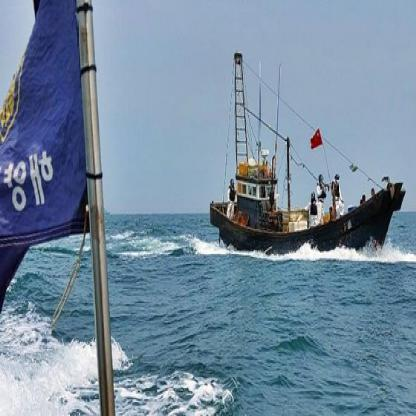fish-b: (209, 43, 411, 264)
